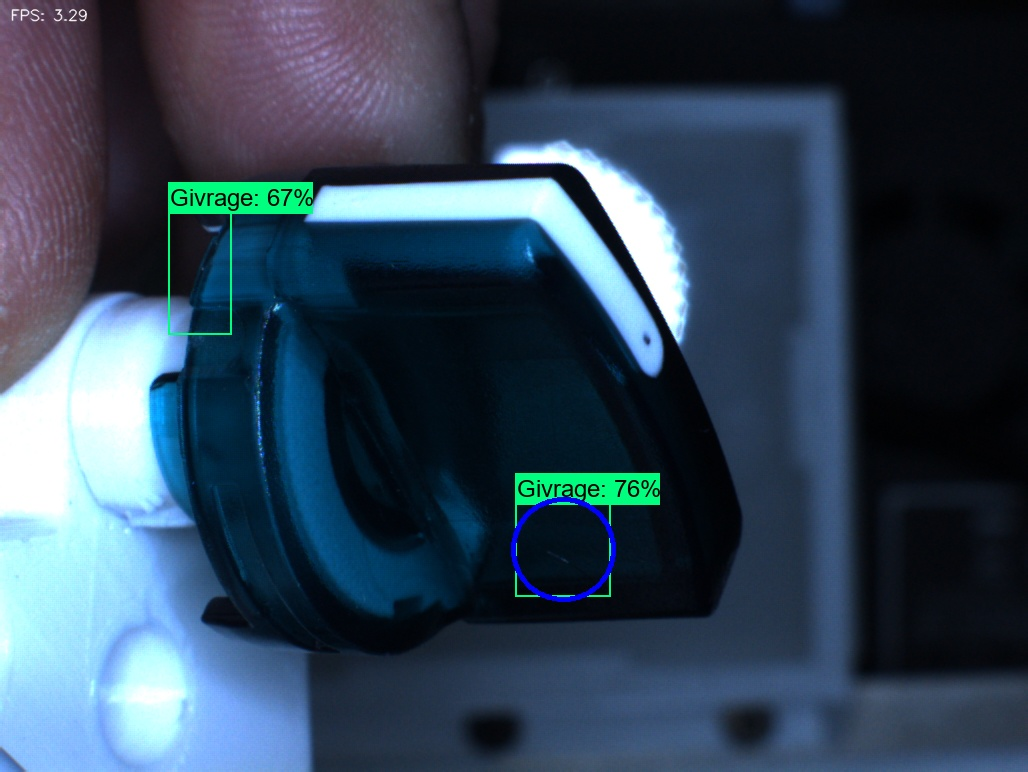PointNoir: (609, 297, 693, 390)
